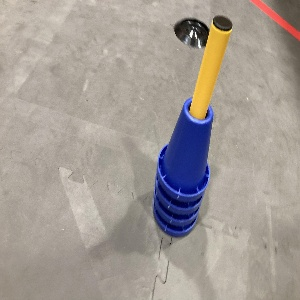Blue_4: (151, 97, 213, 232)
